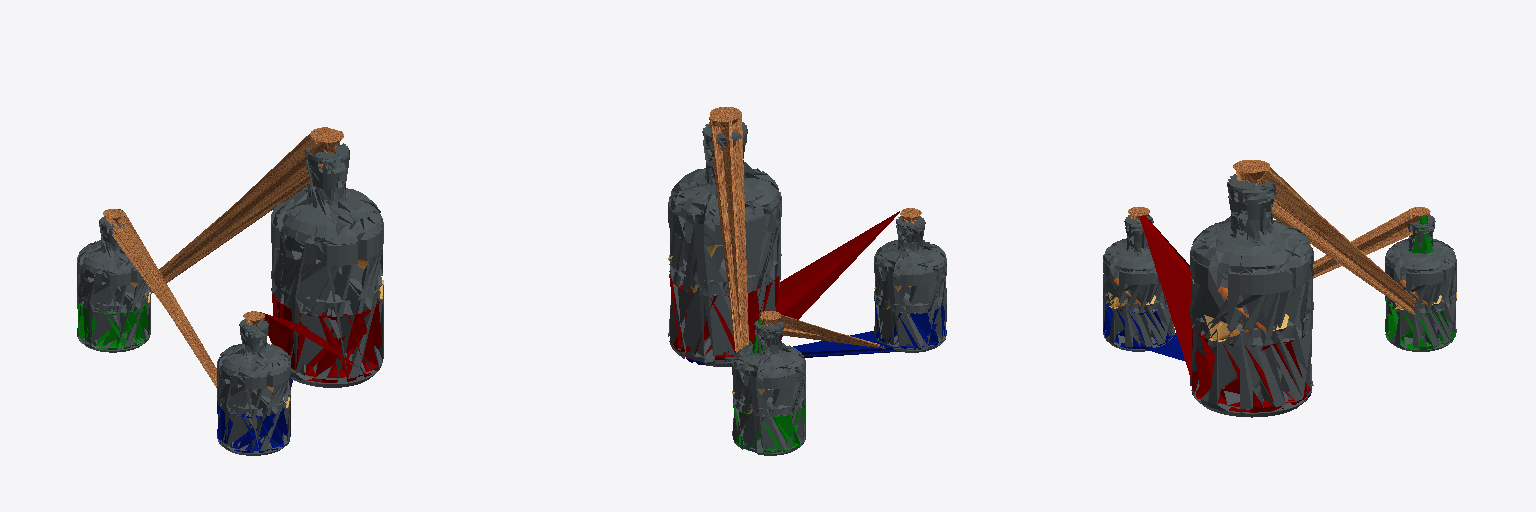
The picture shows the model from 3 angles: view 1: azimuth 30°, elevation 25°; view 2: azimuth 150°, elevation 25°; view 3: azimuth 270°, elevation 25°; orthographic projection.
Visible parts, largest first — view 1: Cylinder.018, Cylinder.003_Cylinder.004, Cylinder.004_Cylinder.005, Cylinder.001_Cylinder.002, Cylinder.005_Cylinder.006; view 2: Cylinder.018, Cylinder.003_Cylinder.004, Cylinder.004_Cylinder.005, Cylinder.001_Cylinder.002, Cylinder.005_Cylinder.006; view 3: Cylinder.018, Cylinder.004_Cylinder.005, Cylinder.003_Cylinder.004, Cylinder.001_Cylinder.002, Cylinder.005_Cylinder.006.
Part boxes in pixels (bbox=[...]): Cylinder.018: bbox=[260, 143, 383, 387]; Cylinder.003_Cylinder.004: bbox=[217, 319, 292, 455]; Cylinder.004_Cylinder.005: bbox=[77, 209, 150, 352]; Cylinder.001_Cylinder.002: bbox=[149, 127, 343, 293]; Cylinder.005_Cylinder.006: bbox=[103, 209, 216, 387]; Cylinder.018: bbox=[668, 122, 899, 366]; Cylinder.003_Cylinder.004: bbox=[686, 216, 946, 364]; Cylinder.004_Cylinder.005: bbox=[732, 314, 805, 455]; Cylinder.001_Cylinder.002: bbox=[709, 107, 748, 352]; Cylinder.005_Cylinder.006: bbox=[760, 311, 885, 348]; Cylinder.018: bbox=[1139, 174, 1313, 417]; Cylinder.004_Cylinder.005: bbox=[1385, 215, 1456, 351]; Cylinder.003_Cylinder.004: bbox=[1103, 215, 1311, 397]; Cylinder.001_Cylinder.002: bbox=[1233, 160, 1419, 314]; Cylinder.005_Cylinder.006: bbox=[1175, 207, 1430, 338].
Bounding box in the file's own units: 4.51 × 4.83 × 6.61.
6 materials, 2 textured.